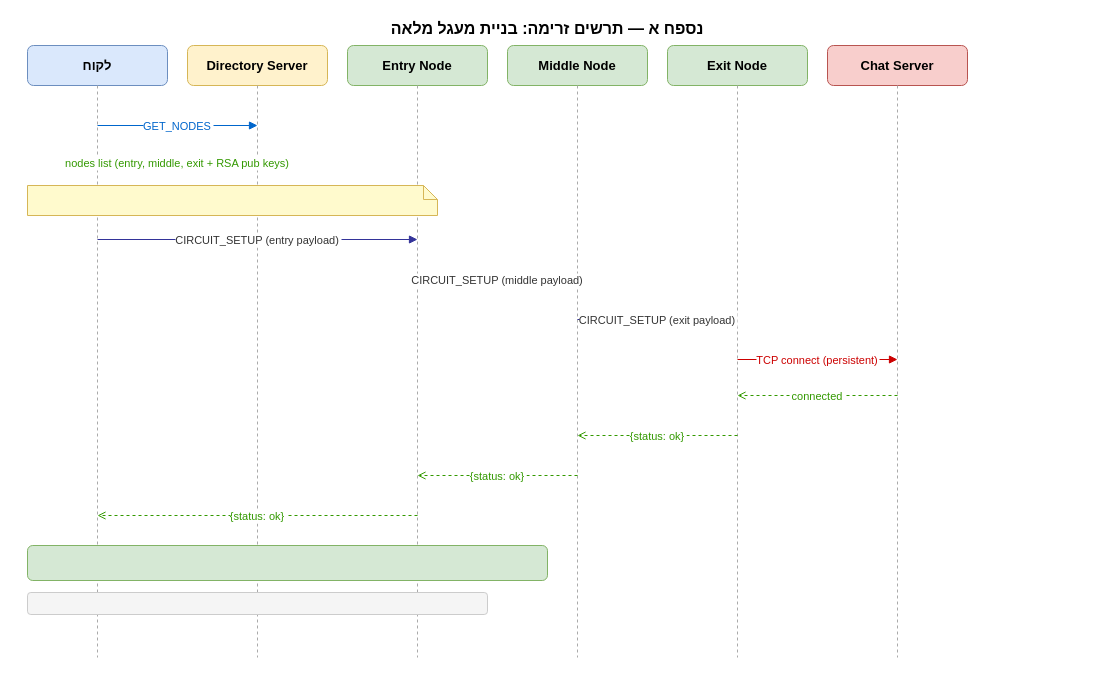
The diagram is 1094 pixels wide and 676 high, and some of its shapes have lost their labels. Each missing label, with the box of its shape:
generate K1, K2, K3 + build nested CIRCUIT_SETUP payloads (exit→middle→entry): (26, 184, 438, 216)
צבעים: ← בקשה (קדימה) ‹‹‹ תשובה (חזרה, קו מקווקו): (26, 592, 488, 614)
✓ מעגל פעיל — K1 אצל Entry, K2 אצל Middle, K3 אצל Exit: (26, 544, 548, 580)
